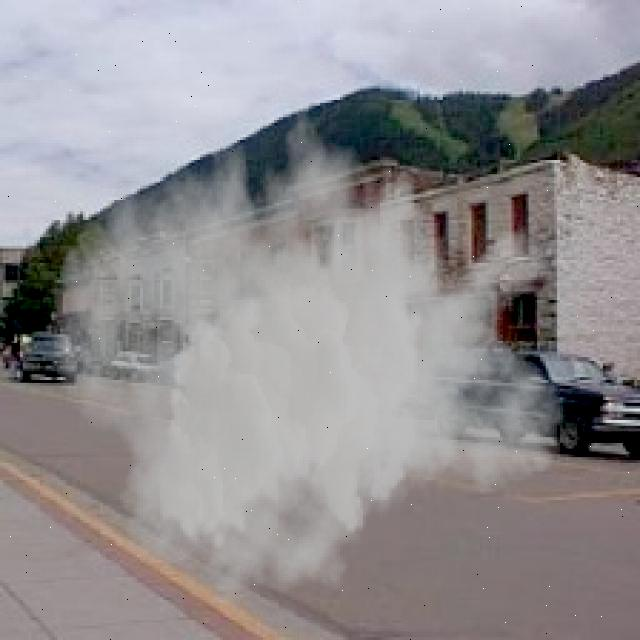smoke: (51, 86, 568, 609)
